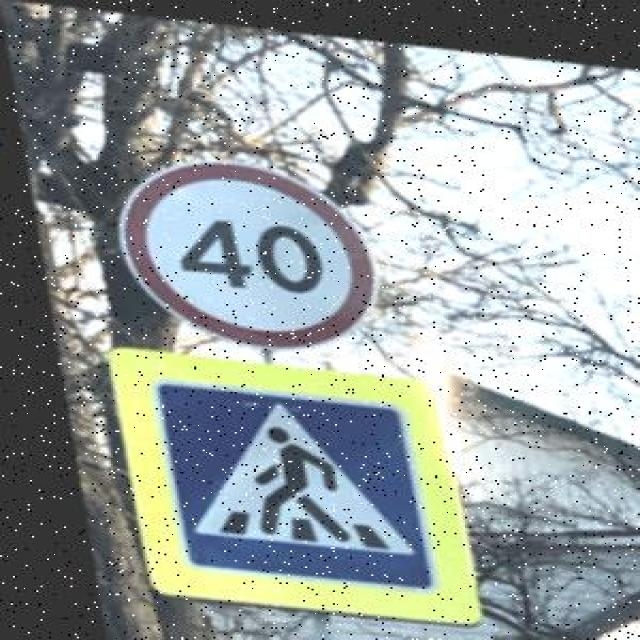speed limit 40: (118, 164, 374, 347)
